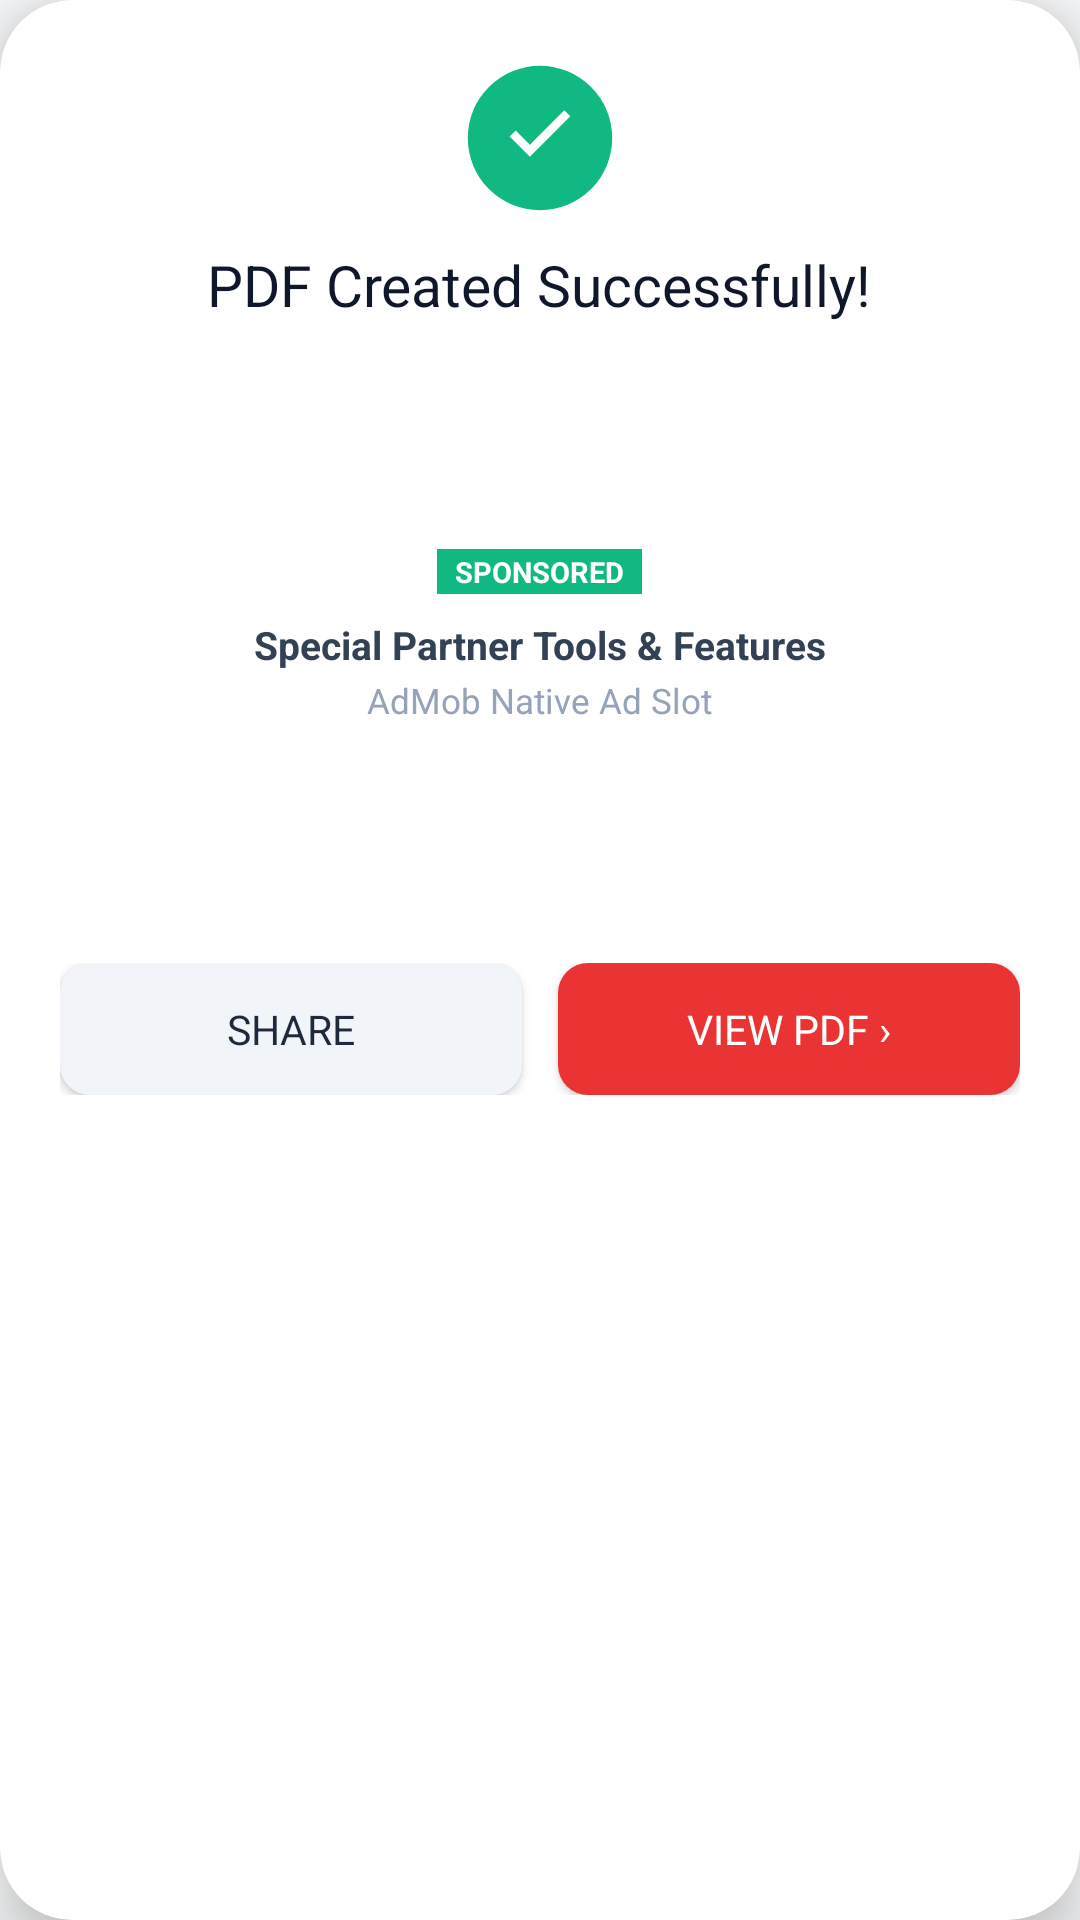

Icons on this 1080x1920 Android screen, each with the point to tap as [x,y]:
success check: [540,138]
